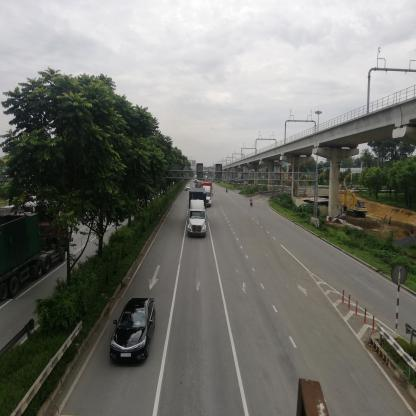car: (111, 299, 156, 369)
container: (2, 217, 68, 301), (188, 191, 207, 238), (204, 184, 214, 208)
motorbike: (250, 198, 253, 208), (226, 187, 230, 194)
